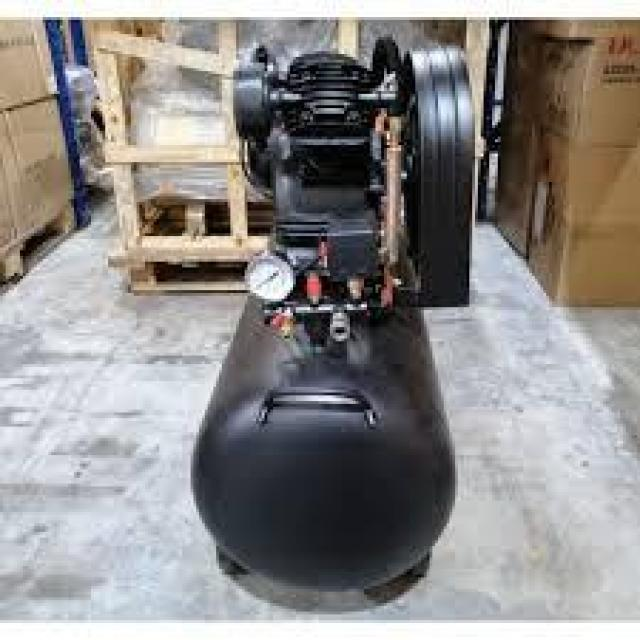compressor: (219, 43, 506, 624)
